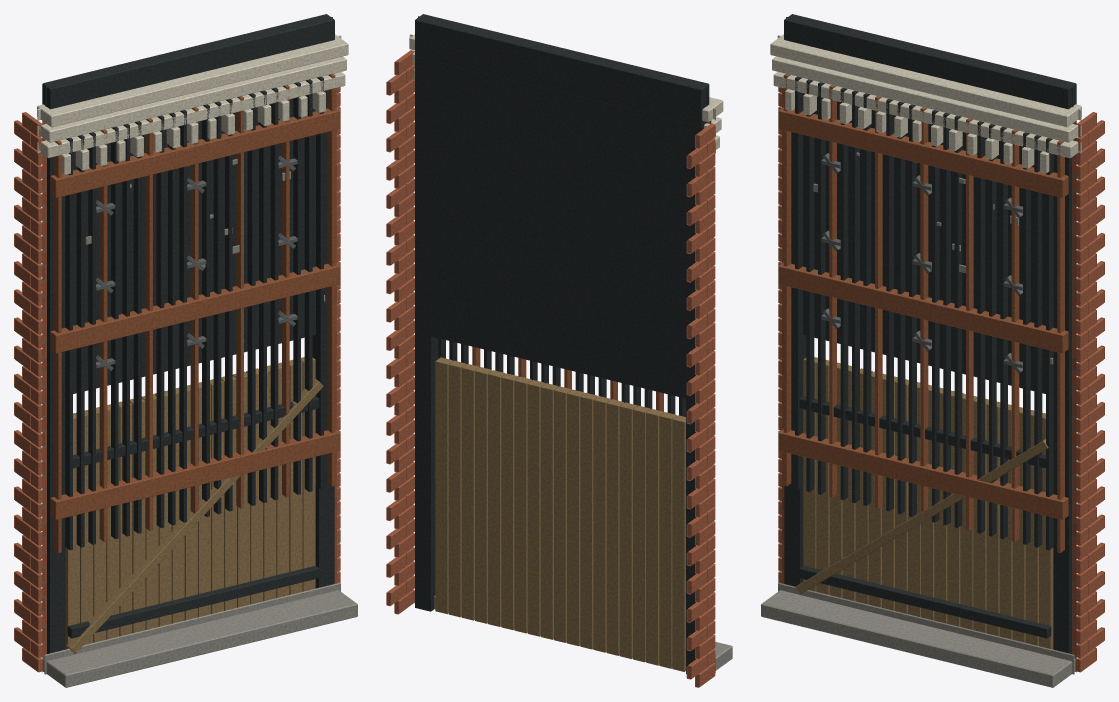
The model's file is WRHS5_lod0.glb.
3 views of the same model, side by side, from view 1: azimuth 30°, elevation 25°; view 2: azimuth 150°, elevation 25°; view 3: azimuth 330°, elevation 25° (orthographic).
Parts seen in each view (by area): view 1: WRHS5_FRONT_LOD0; view 2: WRHS5_FRONT_LOD0; view 3: WRHS5_FRONT_LOD0.
Boxes of the visible parts, x1,y1,x2,y2 form: WRHS5_FRONT_LOD0: (14,14,357,687); WRHS5_FRONT_LOD0: (386,14,732,687); WRHS5_FRONT_LOD0: (761,14,1104,687).
Bounding box in the file's own units: 3.84 × 7.05 × 1.02.
10 materials, 10 textured.
